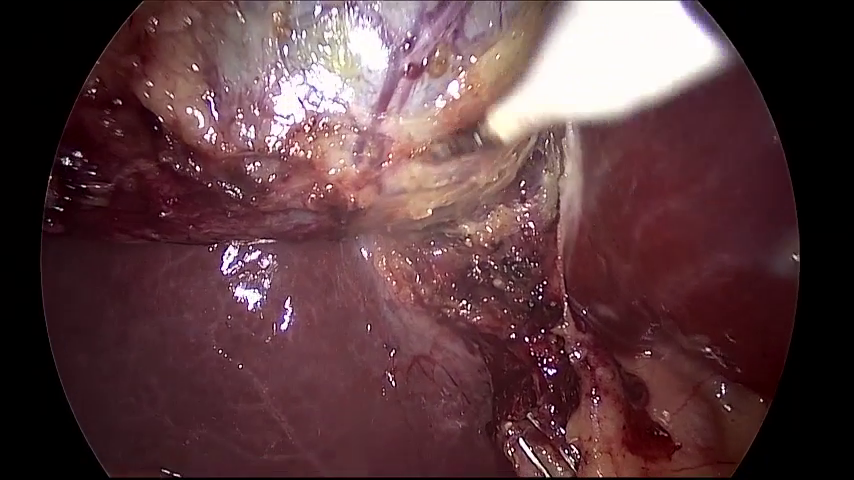lhook: (434, 1, 737, 161)
